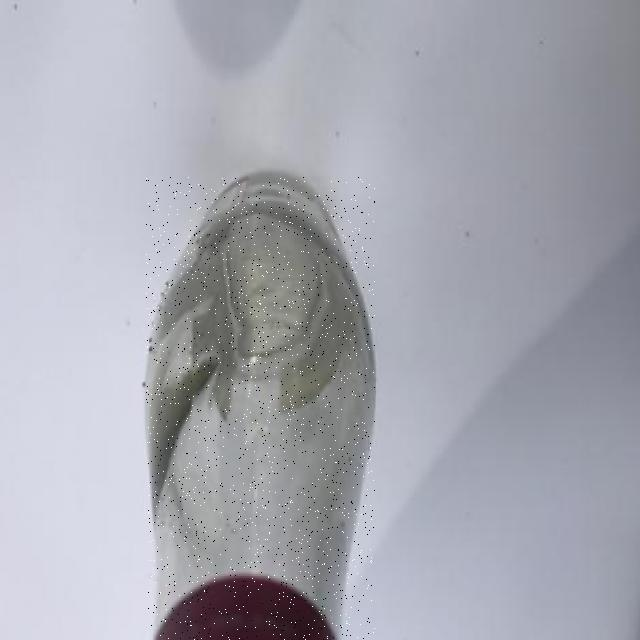glass: (146, 177, 375, 640)
